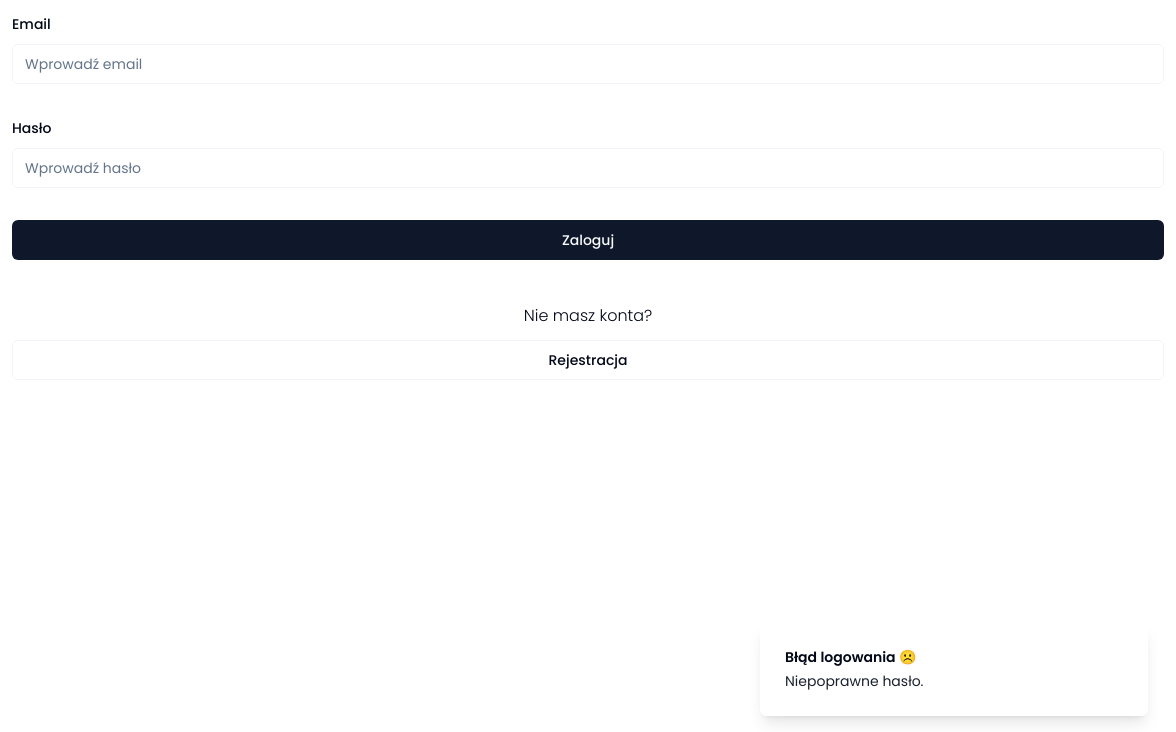
Test: LoginForm › should show toast after successful login
Type "example_test@com.pl" into the field with placeholder "Wprowadź email" at (588, 64), box [12,44,1164,84]
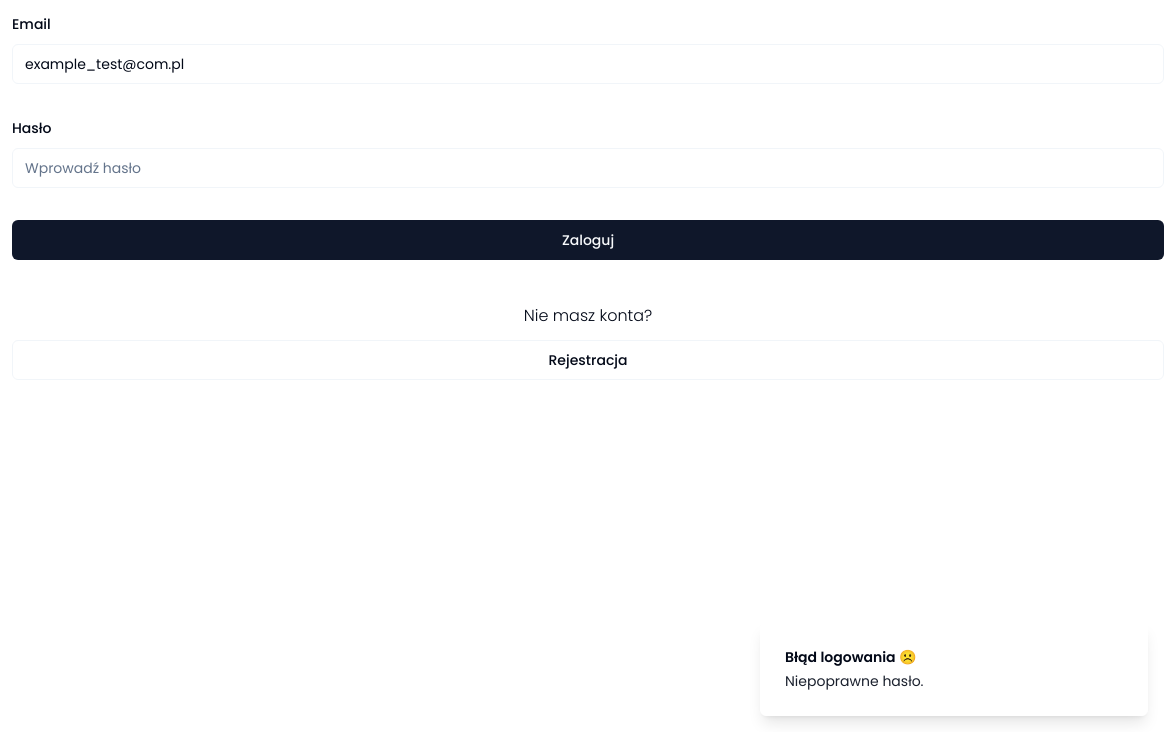
Type "123456" into the password field with placeholder "Wprowadź hasło" at (588, 168), box [12,148,1164,188]
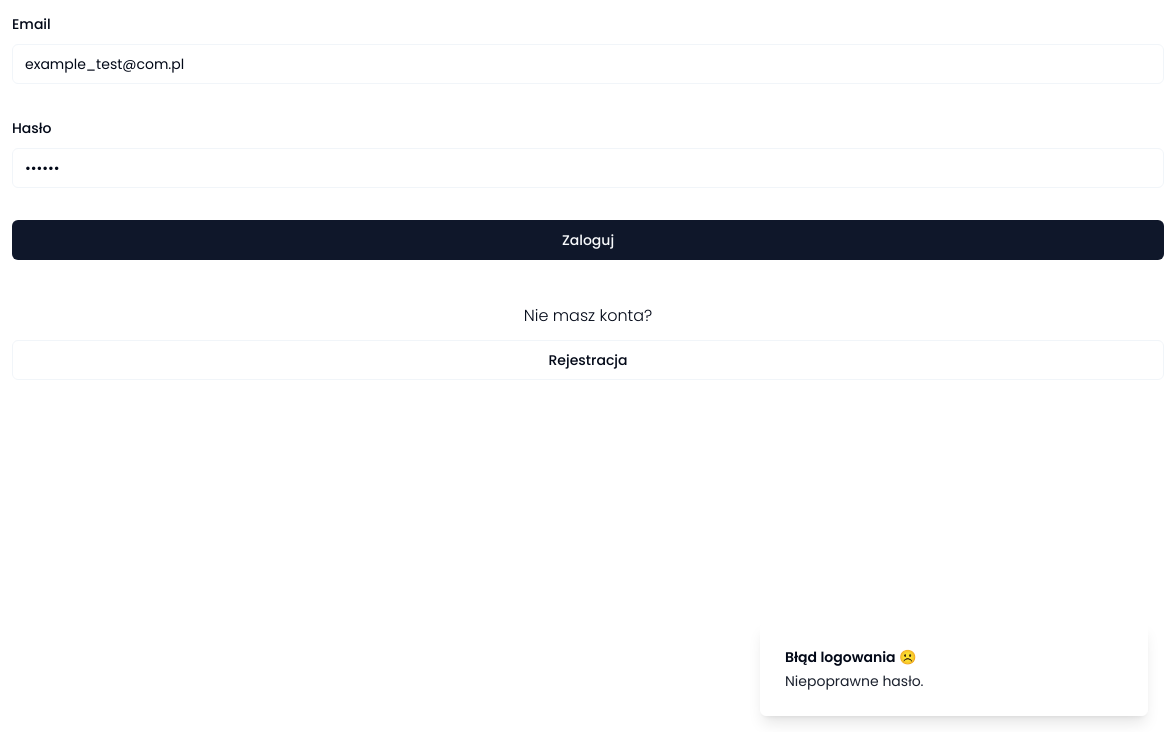
Click the button "Zaloguj" at (588, 240), box [12,220,1164,260]
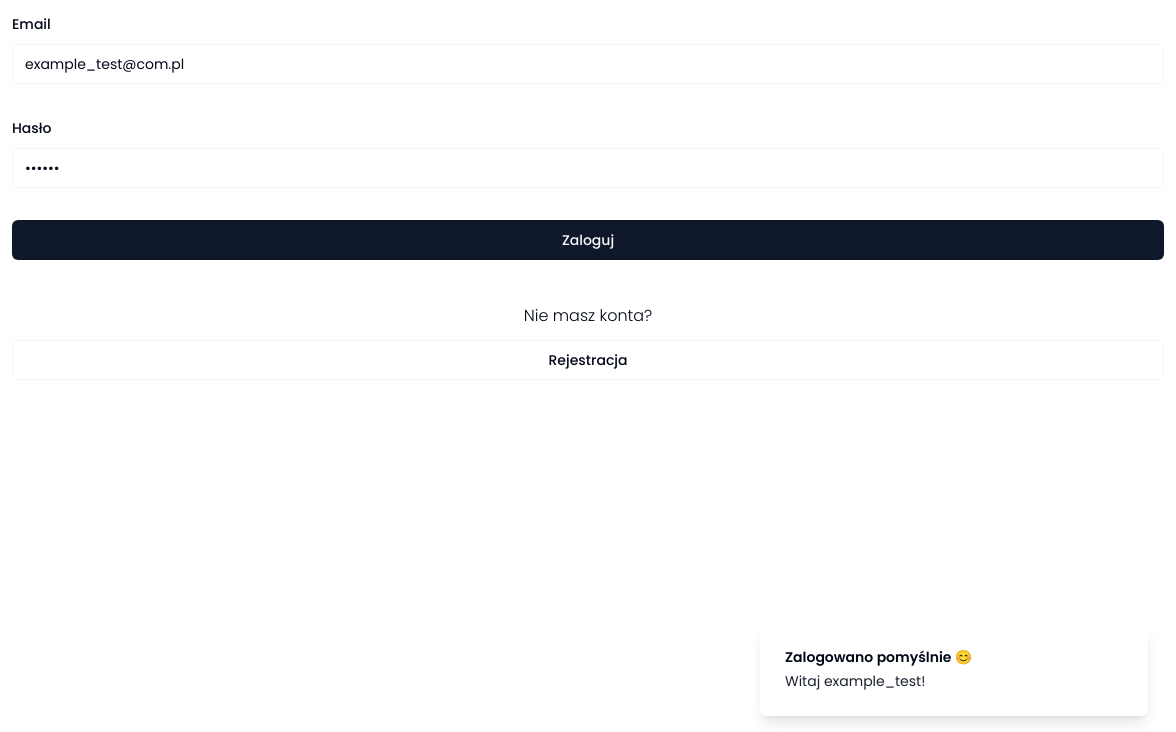
Now the text "Zalogowano pomyślnie 😊" is shown, box [785,647,972,667]
